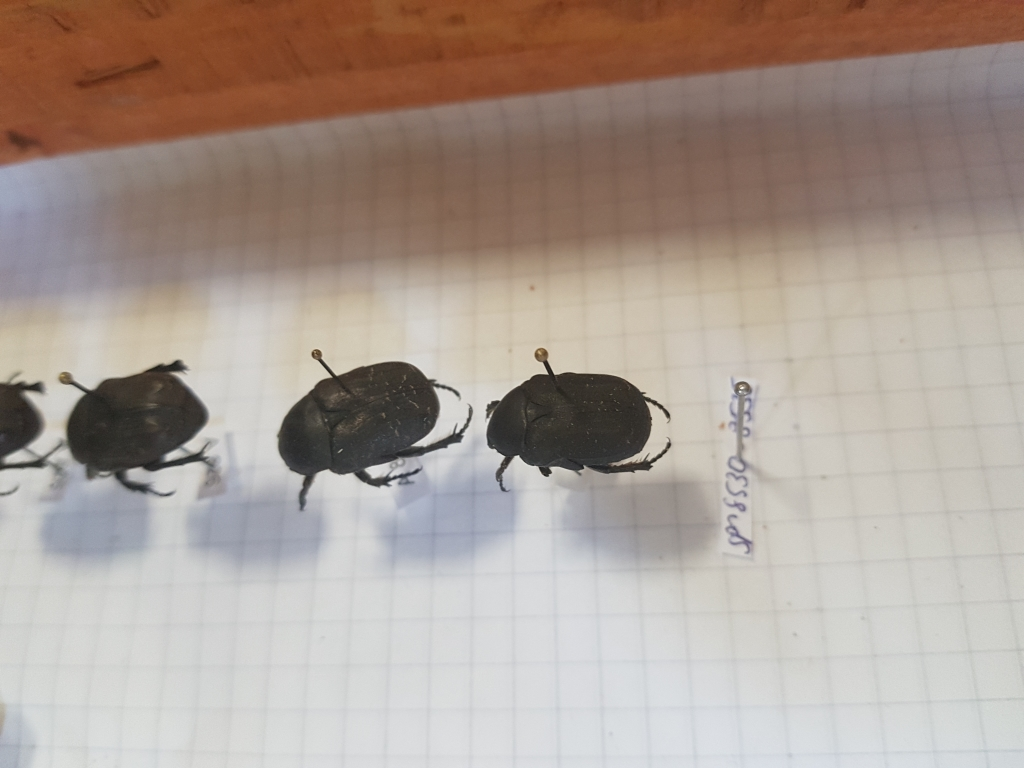Protaetia_oblonga: (273, 351, 478, 519), (477, 364, 686, 494)
